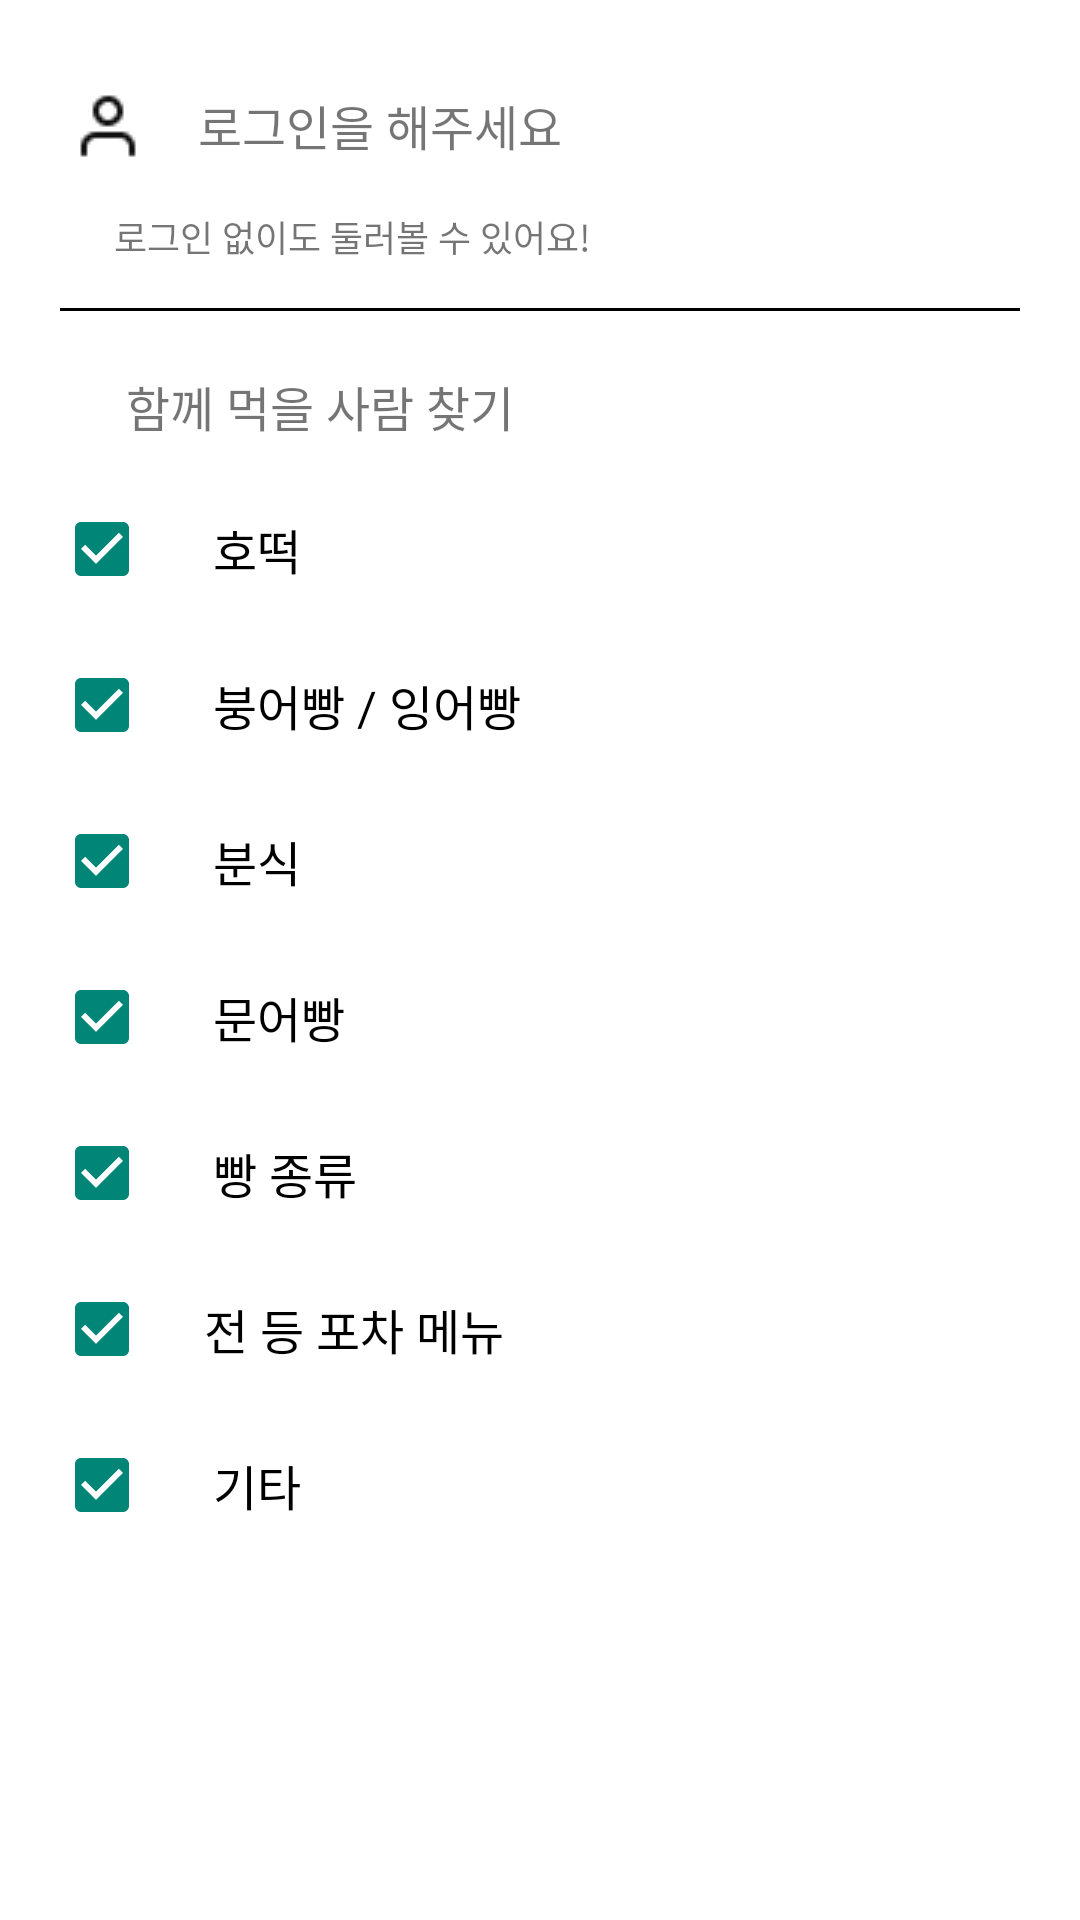

Screen size 1080w x 1920h. Icon name, then its box in pixels as (x1, y1, x2, y2):
user: (80, 95, 136, 157)
